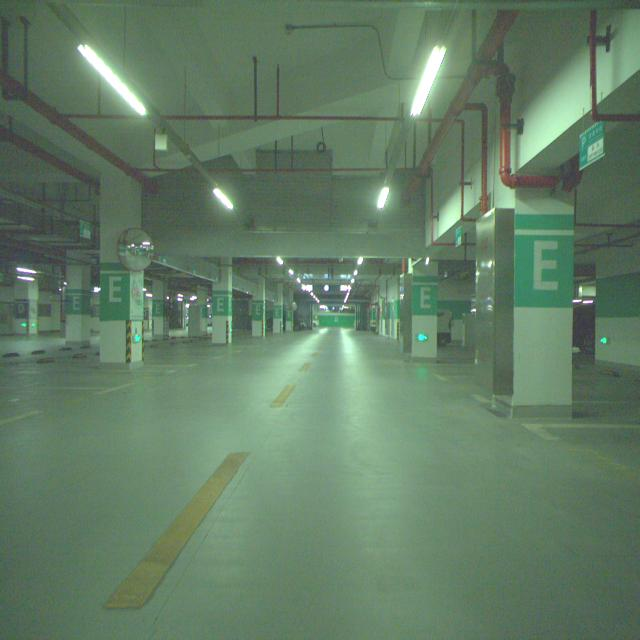pillar: (100, 173, 144, 369), (212, 258, 232, 343)
